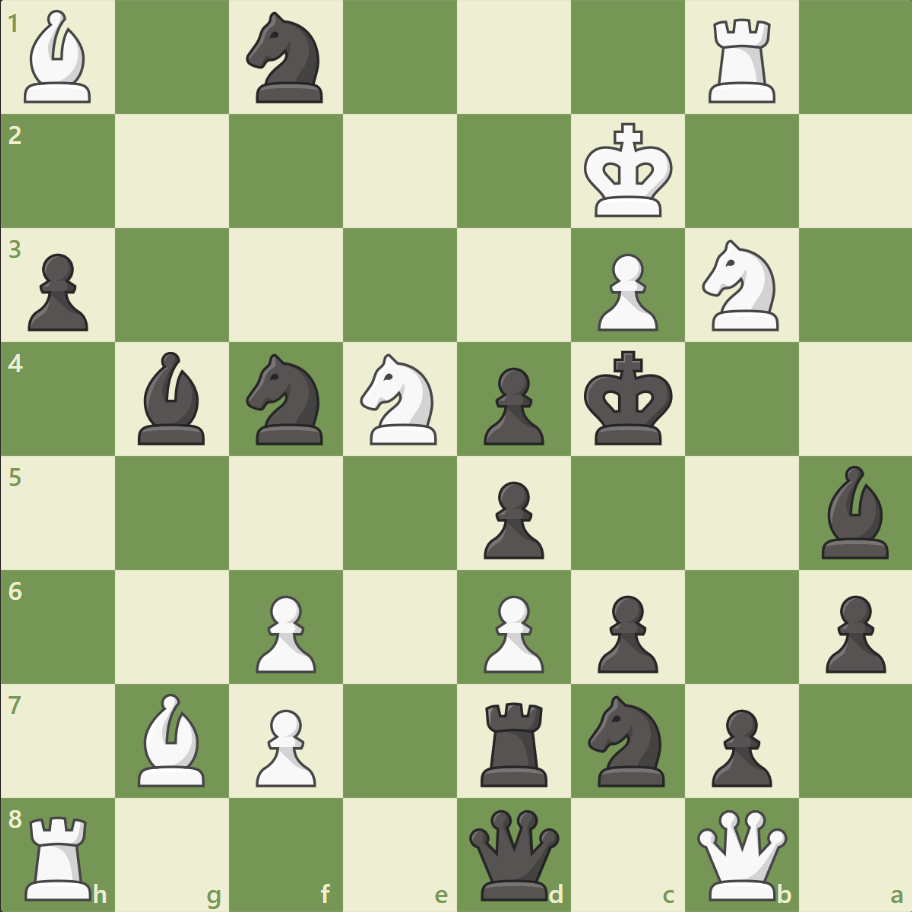B: (131, 687, 215, 790), (17, 6, 101, 109)
K: (579, 117, 679, 225)
N: (351, 348, 449, 450), (692, 234, 789, 337)
P: (247, 700, 322, 791), (474, 586, 549, 677), (247, 586, 322, 677), (588, 246, 662, 337)
Q: (691, 804, 790, 903)
R: (19, 806, 102, 904), (700, 12, 783, 109)
b: (812, 460, 896, 563), (131, 347, 215, 449)
k: (579, 344, 679, 452)
n: (579, 688, 676, 791), (238, 7, 335, 110), (238, 348, 335, 450)
p: (701, 700, 776, 791), (474, 473, 549, 564), (474, 359, 549, 450), (20, 246, 95, 337), (815, 586, 889, 677), (588, 586, 662, 677)
q: (464, 804, 563, 903)
r: (473, 693, 556, 790)
